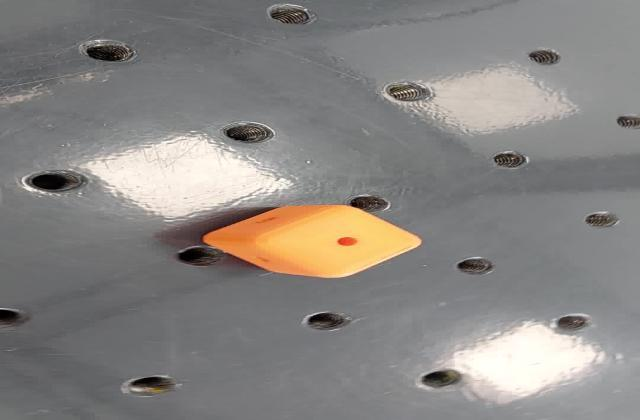cube: (192, 200, 426, 282)
